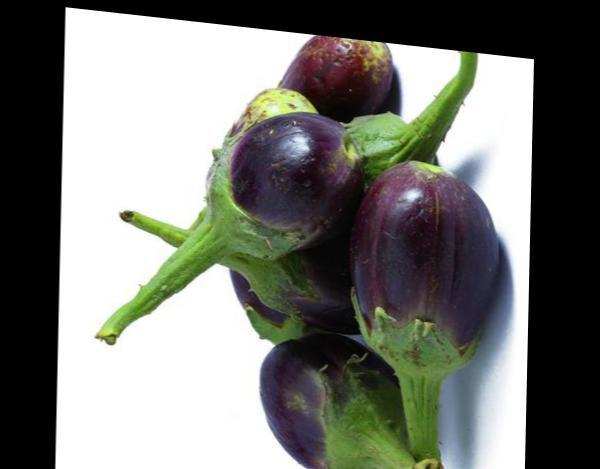eggplant: (127, 11, 512, 468), (342, 93, 517, 468), (131, 33, 349, 326), (254, 316, 442, 468)
